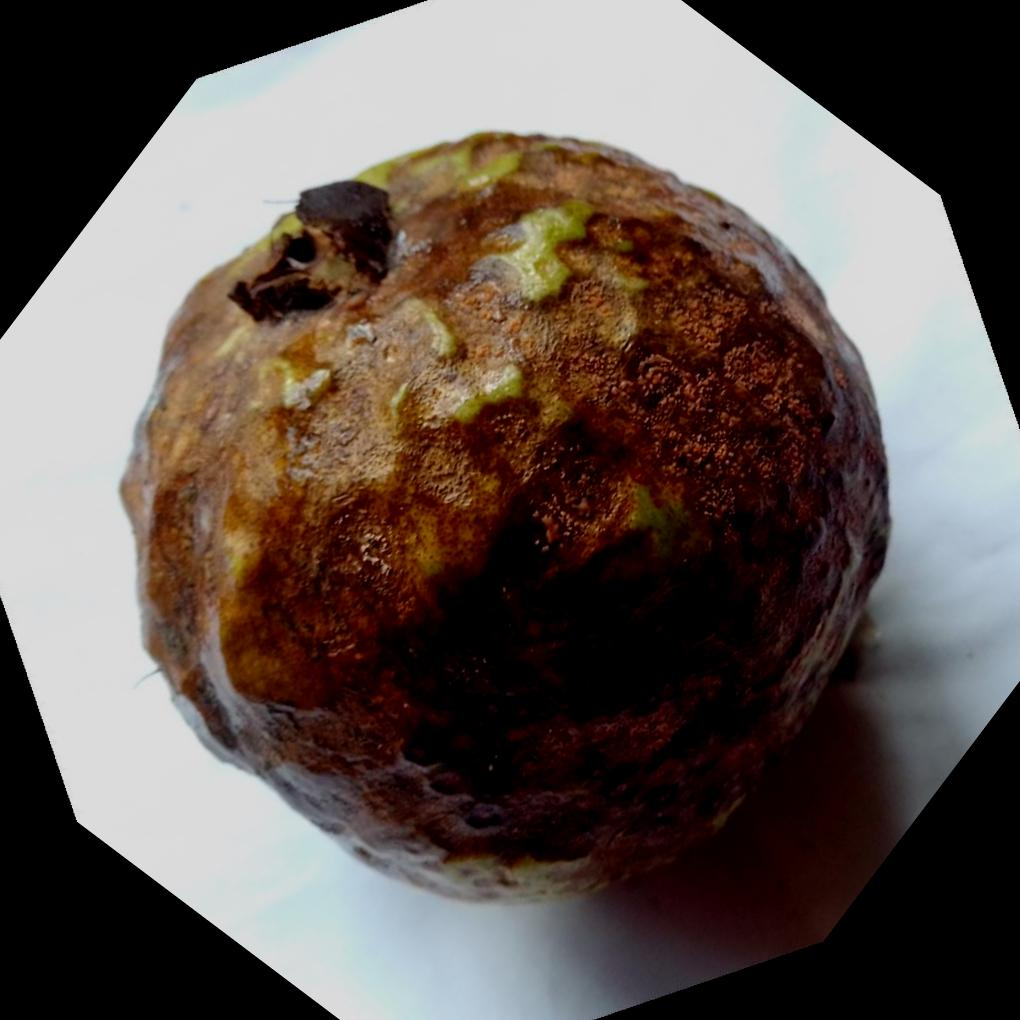FreshOrange: (116, 132, 892, 909)
